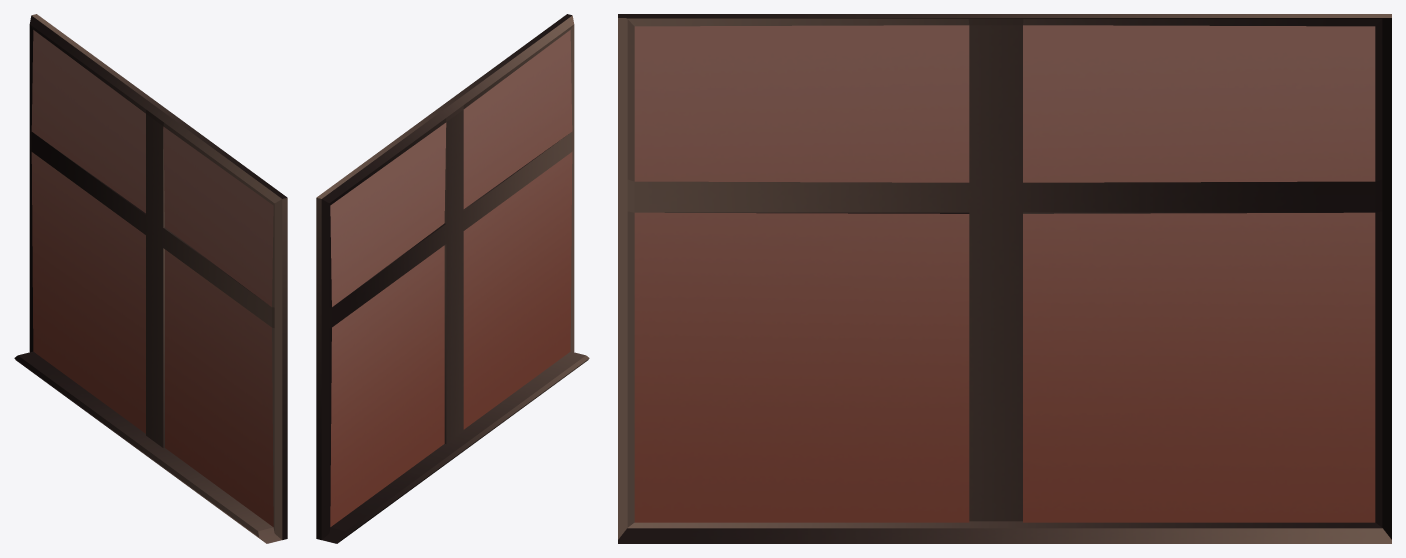
File: window.fbx
The picture shows the model from 3 angles, left to right: view 1: azimuth 30°, elevation 25°; view 2: azimuth 150°, elevation 25°; view 3: azimuth 270°, elevation 25°; orthographic projection. The views are drawn at different scales.
Visible parts, largest first — view 1: Box001; view 2: Box001; view 3: Box001.
Boxes of the visible parts, x1,y1,x2,y2 form: Box001: (14,14,287,543); Box001: (316,14,589,543); Box001: (618,14,1391,543).
Bounding box in the file's own units: 4.7 × 60 × 80.
